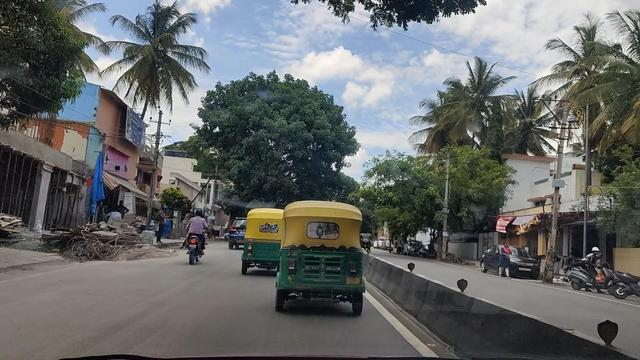LMV: (276, 206, 371, 315), (234, 202, 284, 272), (183, 210, 211, 263)
RoadDamages: (66, 333, 202, 357)
